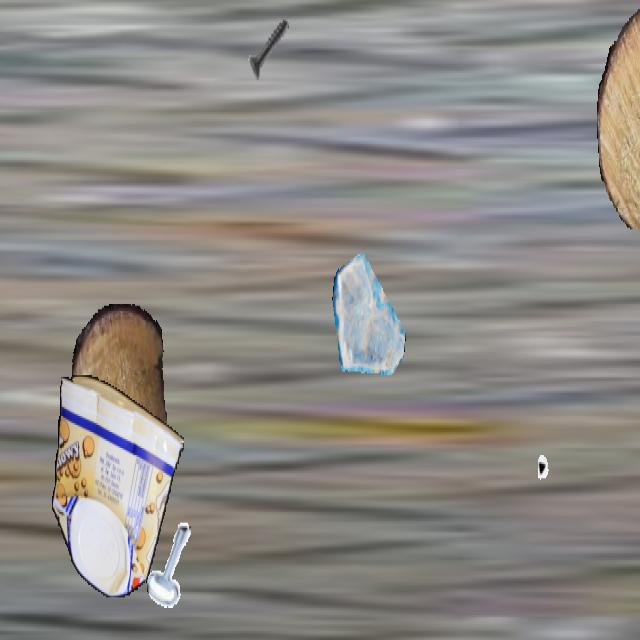glass: (332, 247, 406, 379)
metal: (538, 423, 600, 533), (243, 2, 295, 94), (146, 521, 198, 613)
plastic: (52, 375, 184, 596)
wood: (72, 304, 166, 489), (597, 2, 640, 229)
